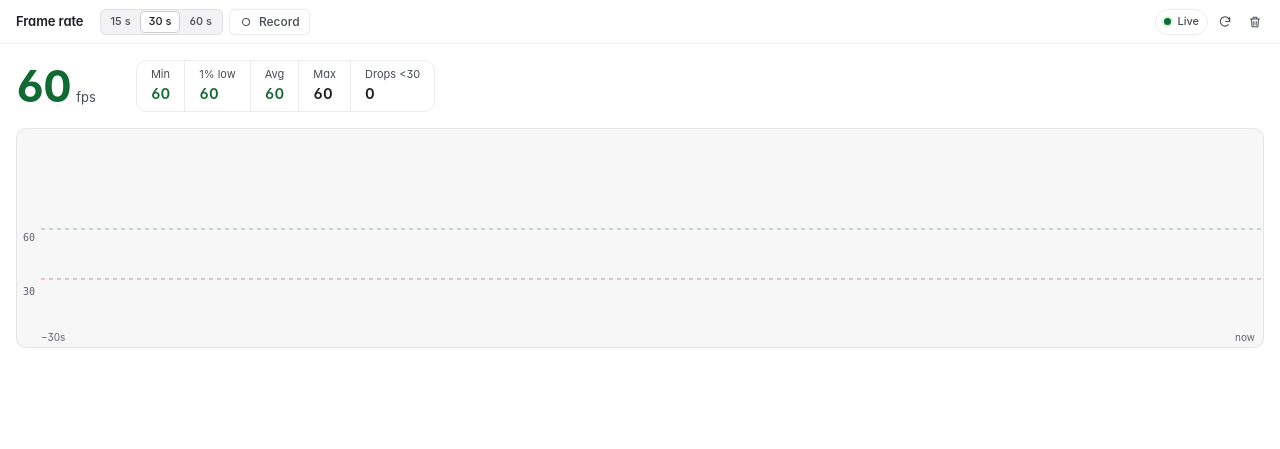
Test case: FpsMonitor › still clears locally when the server clear fails
This screenshot has width=1280, height=449.
Click the button named "Clear recorded data": [1255, 22] box [1242,8,1268,34]
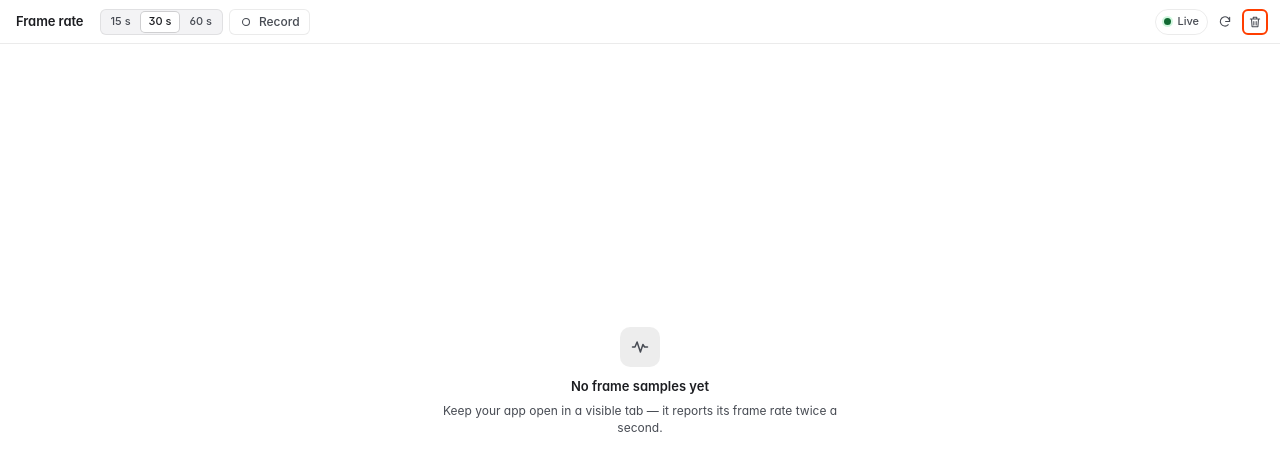
Expected: the message shows "No frame samples yet", [571,378,709,394]
